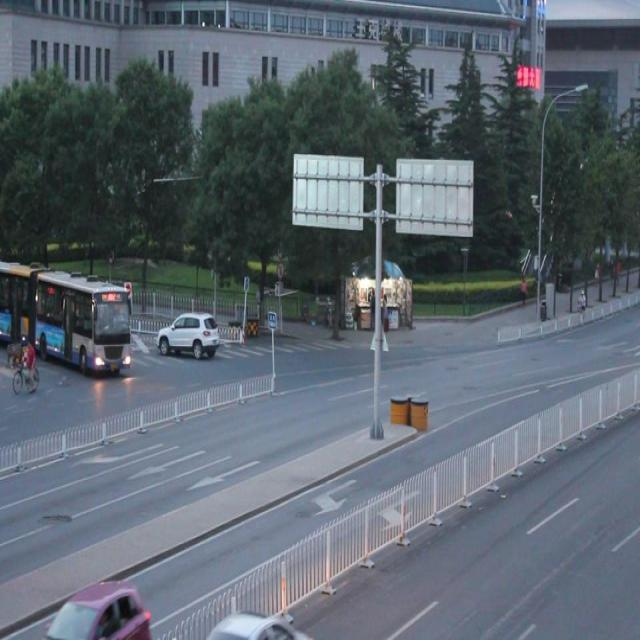car: (42, 575, 152, 640), (158, 308, 218, 360)
van: (0, 257, 130, 375)
